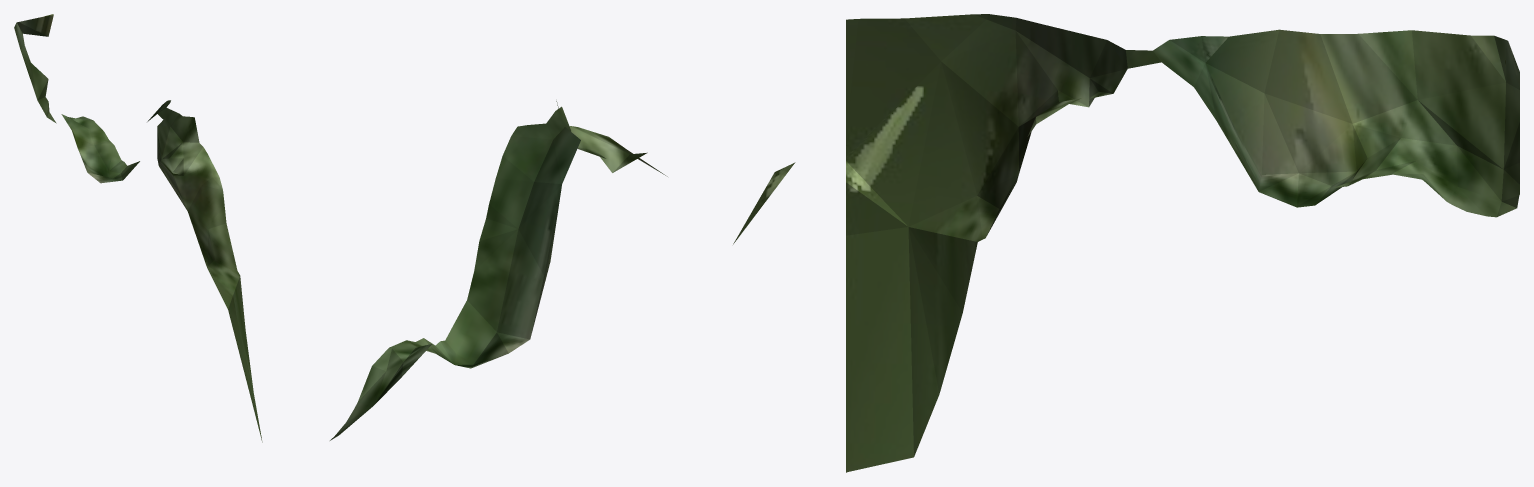
3 views of the same model, side by side, from view 1: azimuth 30°, elevation 25°; view 2: azimuth 150°, elevation 25°; view 3: azimuth 270°, elevation 25° (orthographic). The views are drawn at different scales.
Bounding box in the file's own units: 0.5351 × 1.97 × 2.95.
1 material, 1 textured.
